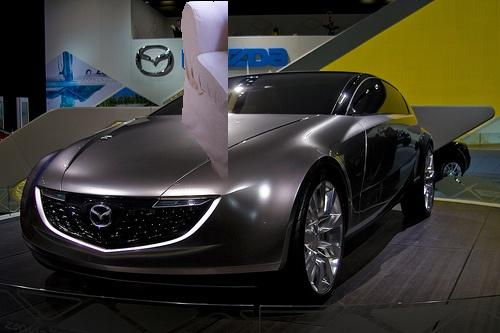tampered: (182, 2, 228, 180)
